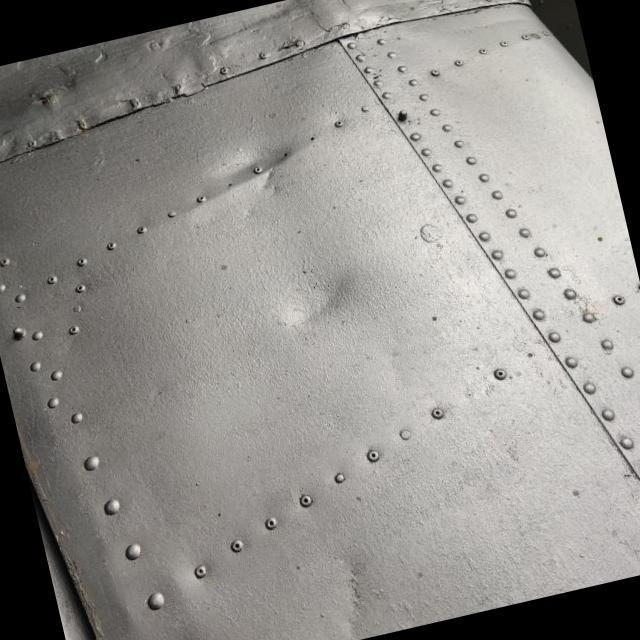dent: (181, 125, 305, 228), (260, 254, 370, 344)
